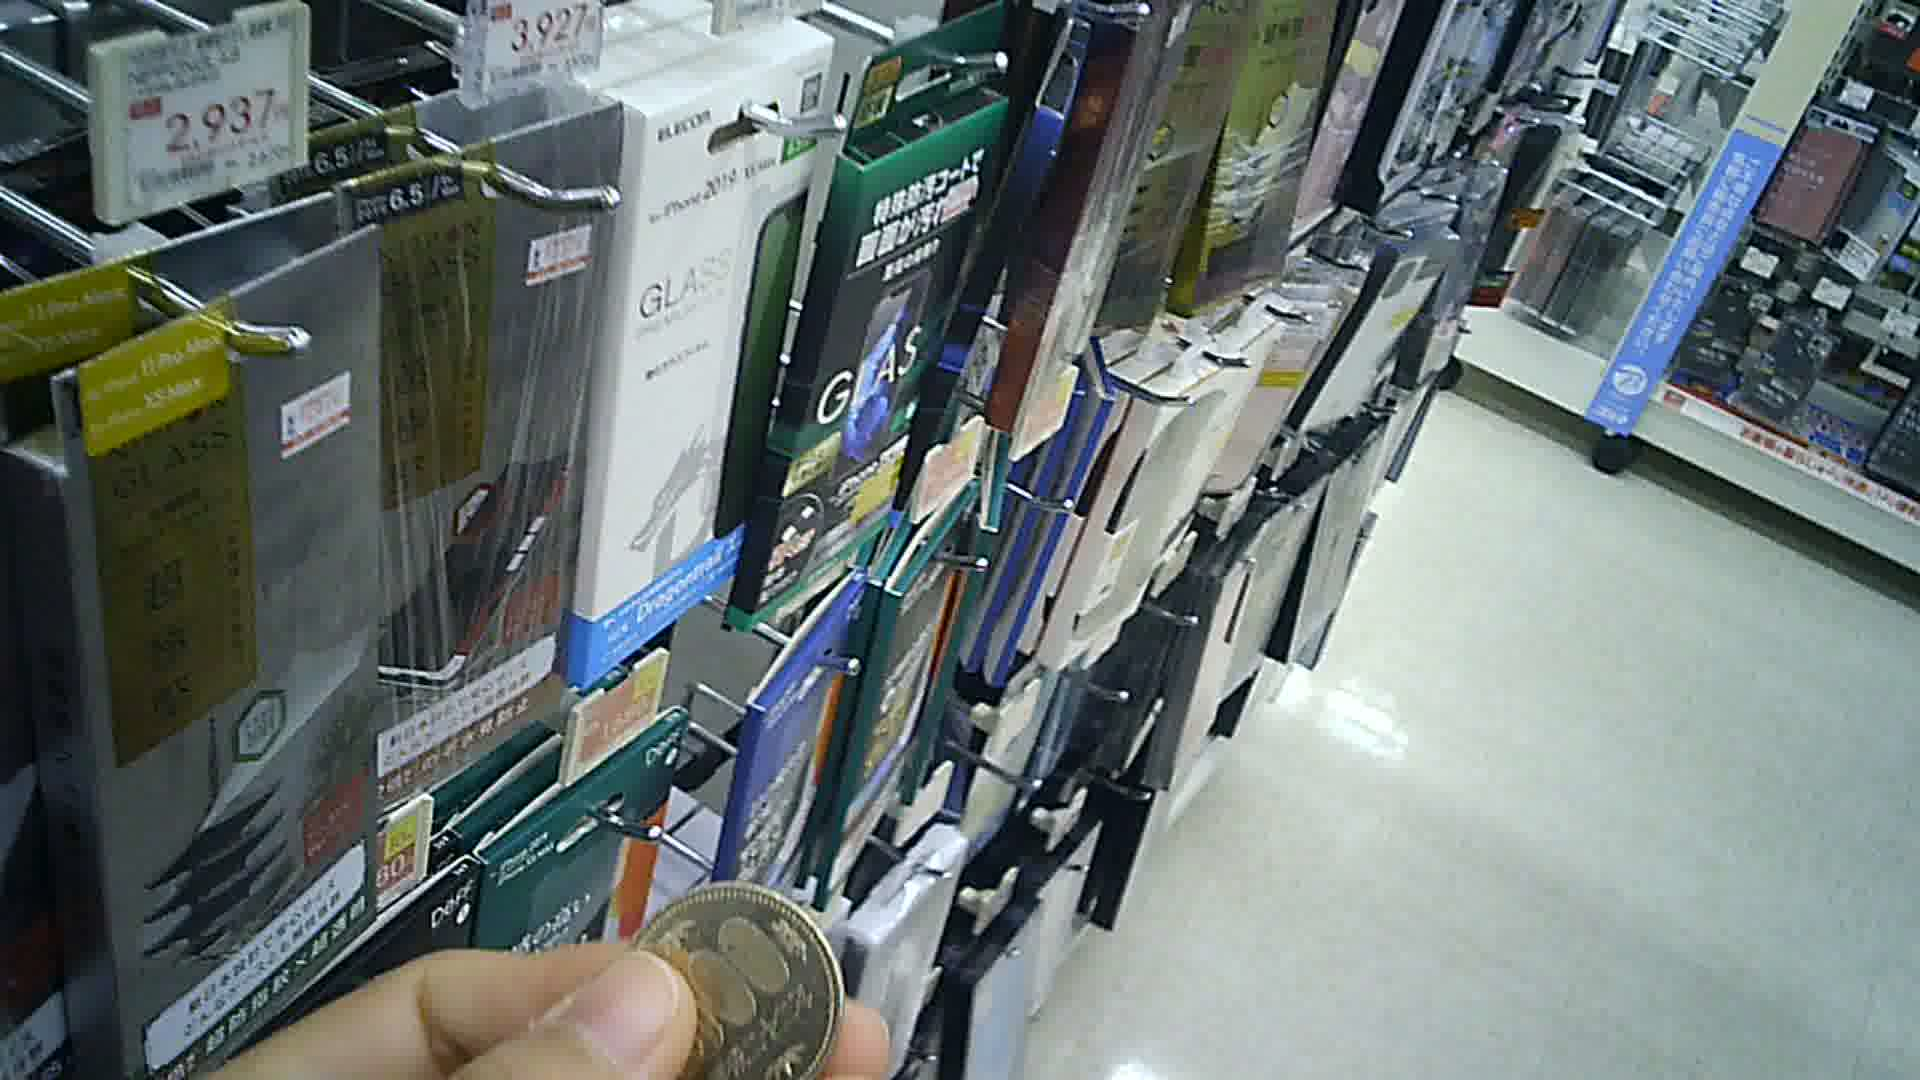500 Yen: (605, 869, 847, 1079)
